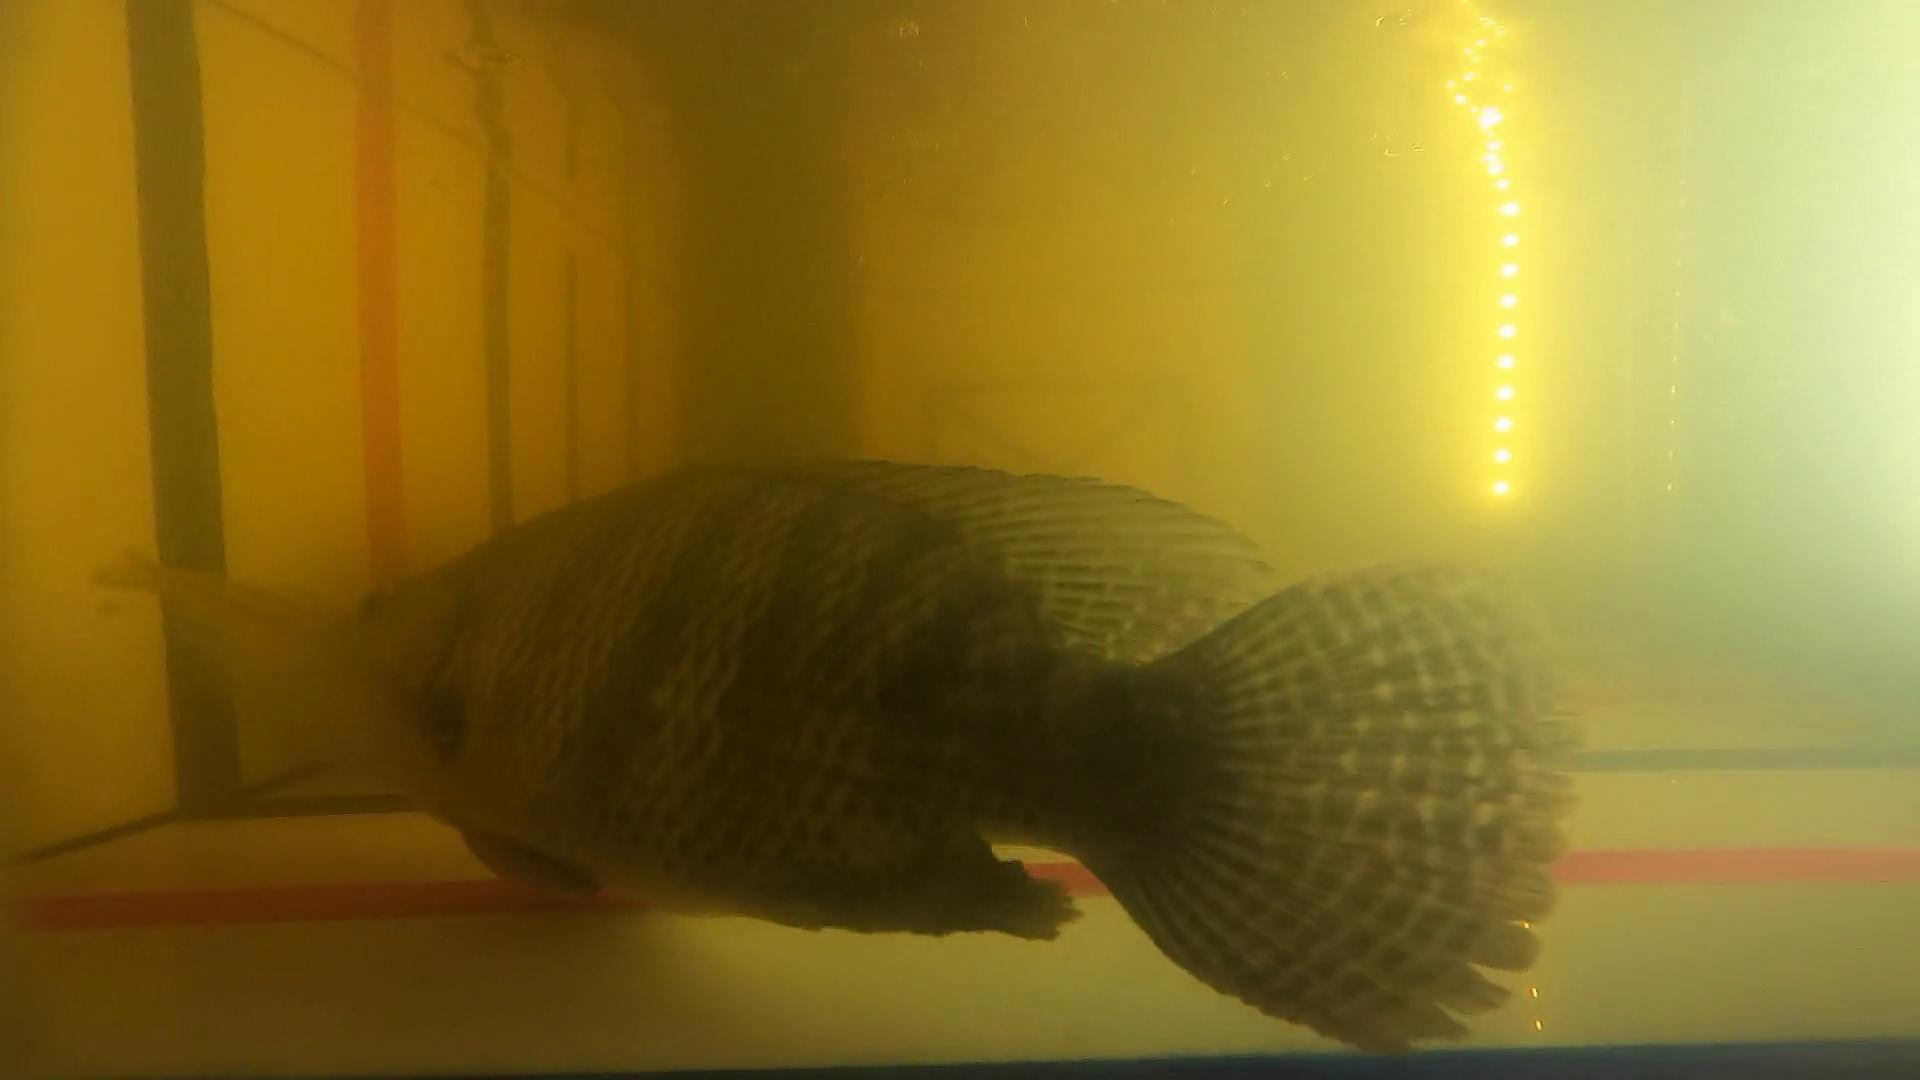Tilapia: (328, 462, 1577, 1054)
